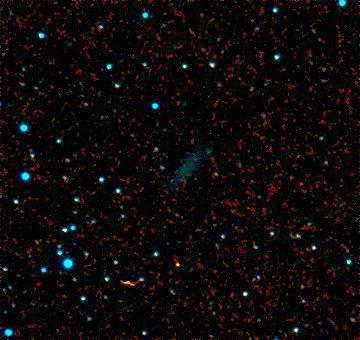star: (162, 249, 192, 279)
